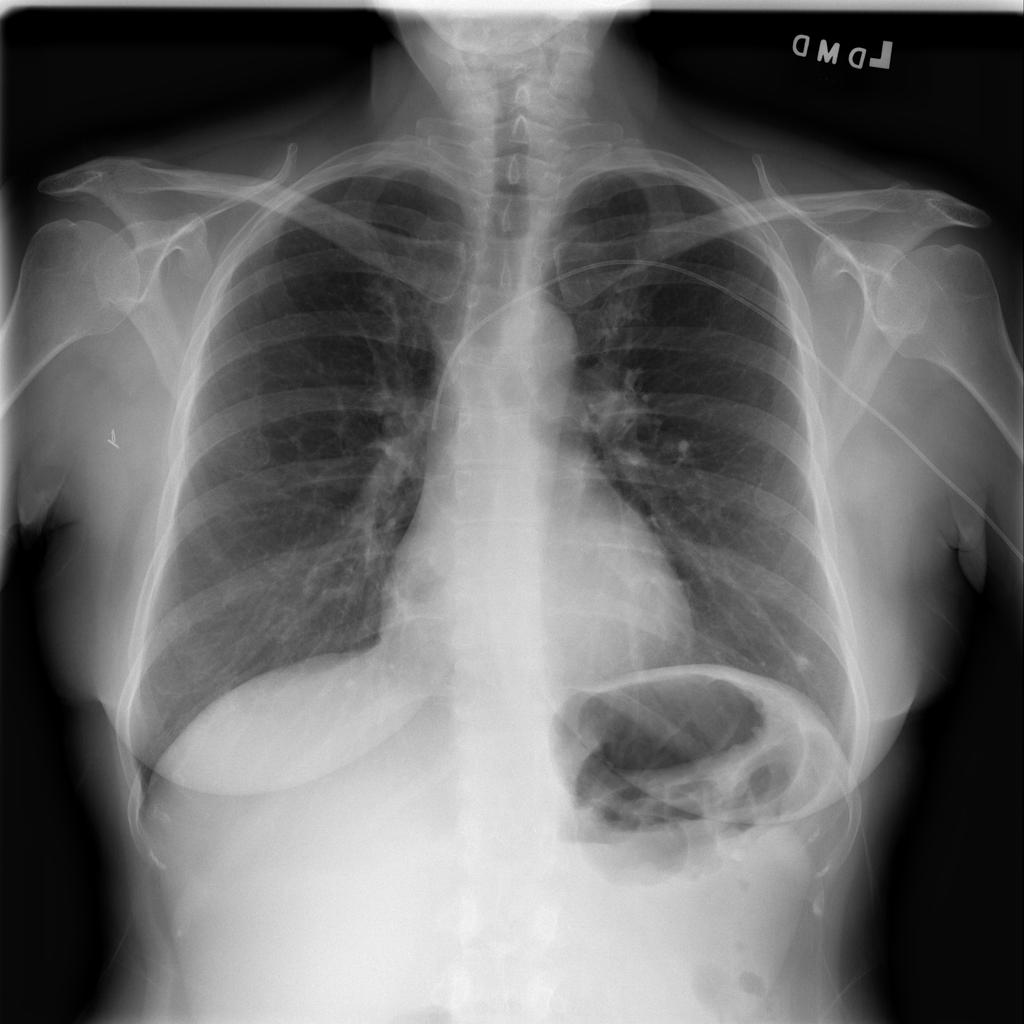nodule: (778, 637, 829, 685)
